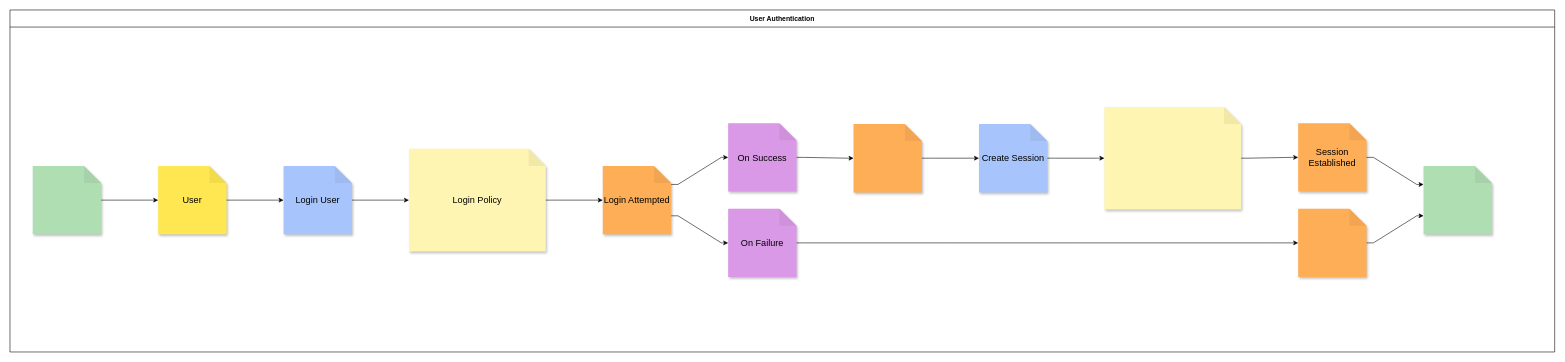
This 1565x362 diagram has some shape labels left out. The centre of each missing label's shape, as x and y in pixels:
Login Failed: the point at 1333,243
Login Succeeded: the point at 888,158
Session Management Policy: the point at 1173,158
Session Status: the point at 1458,200
User Profile: the point at 67,200
